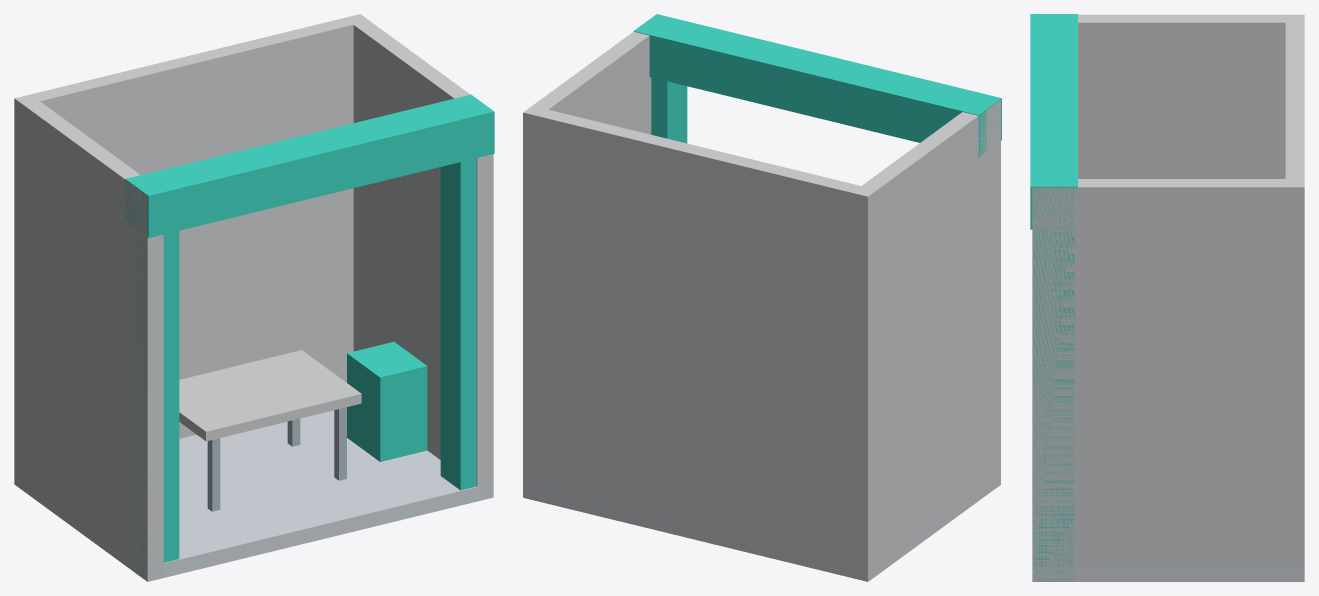
The picture shows the model from 3 angles, left to right: view 1: azimuth 30°, elevation 25°; view 2: azimuth 150°, elevation 25°; view 3: azimuth 270°, elevation 25°; orthographic projection. The views are drawn at different scales.
Parts seen in each view (by area): view 1: Exhibition Booth Concept; view 2: Exhibition Booth Concept; view 3: Exhibition Booth Concept.
Boxes of the visible parts, bbox=[...] form: Exhibition Booth Concept: bbox=[14, 14, 494, 581]; Exhibition Booth Concept: bbox=[523, 14, 1001, 581]; Exhibition Booth Concept: bbox=[1030, 14, 1304, 581].
Size of the model in its own units: 3 by 3.2 by 2.01.
